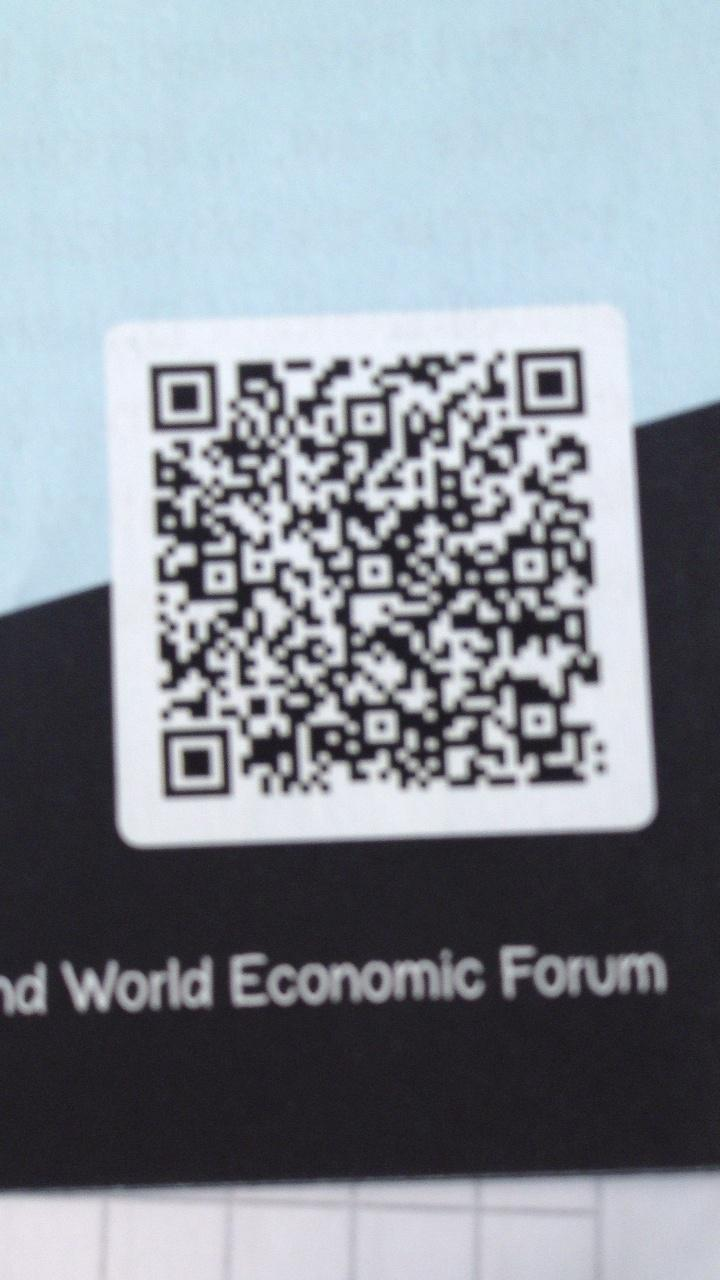qr_code: (148, 350, 609, 799)
